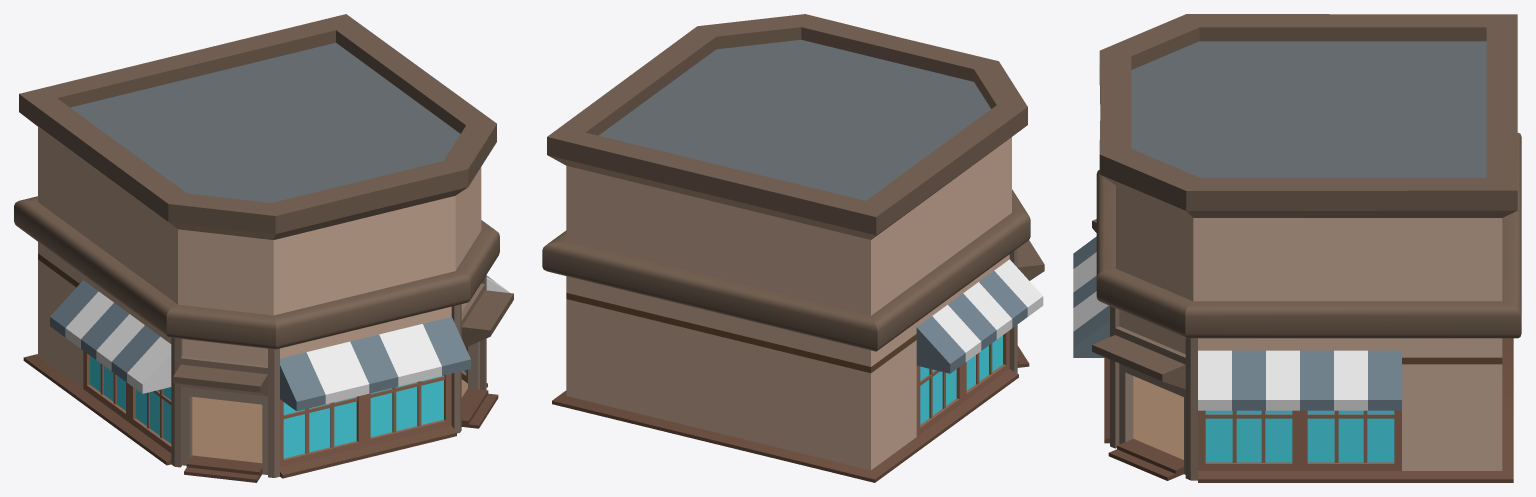
File: SM_Buildings_Commercial_07.fbx
The picture shows the model from 3 angles, left to right: view 1: azimuth 30°, elevation 25°; view 2: azimuth 150°, elevation 25°; view 3: azimuth 270°, elevation 25°; orthographic projection. The views are drawn at different scales.
Visible parts, largest first — view 1: SM_Buildings_Commercial_07; view 2: SM_Buildings_Commercial_07; view 3: SM_Buildings_Commercial_07.
Boxes of the visible parts, left/top/right/bottom form: SM_Buildings_Commercial_07: left=14, top=14, right=513, bottom=482; SM_Buildings_Commercial_07: left=542, top=14, right=1044, bottom=482; SM_Buildings_Commercial_07: left=1073, top=14, right=1521, bottom=482.
Bounding box in the file's own units: 12.2 × 8.4 × 11.6.
